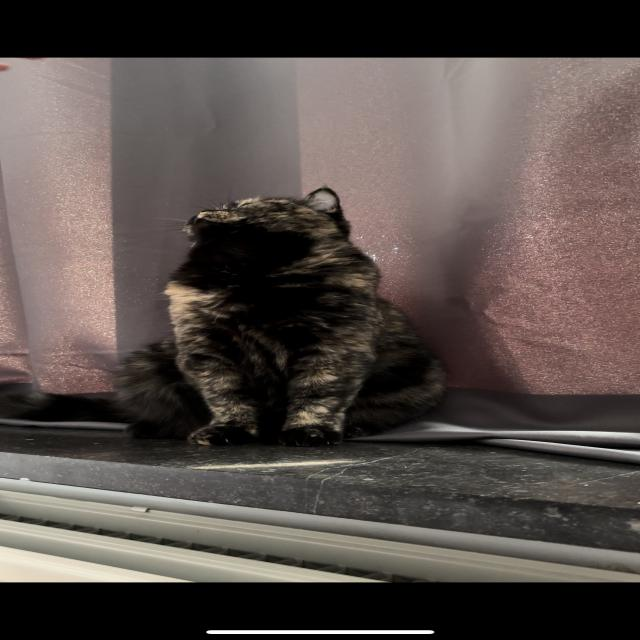authorized: (108, 185, 448, 448)
